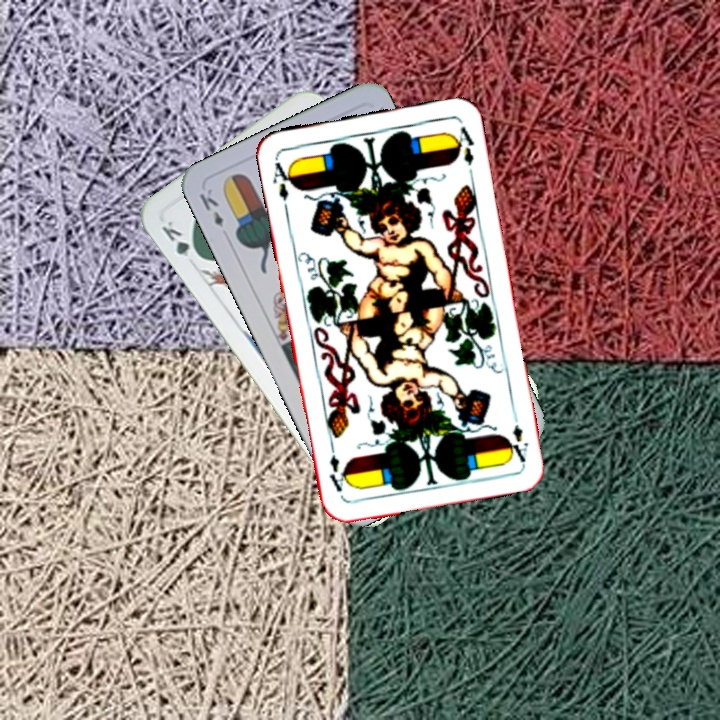EA: (504, 406, 531, 465), (268, 155, 297, 204)
EK: (195, 184, 227, 230)
GK: (157, 216, 205, 262)
